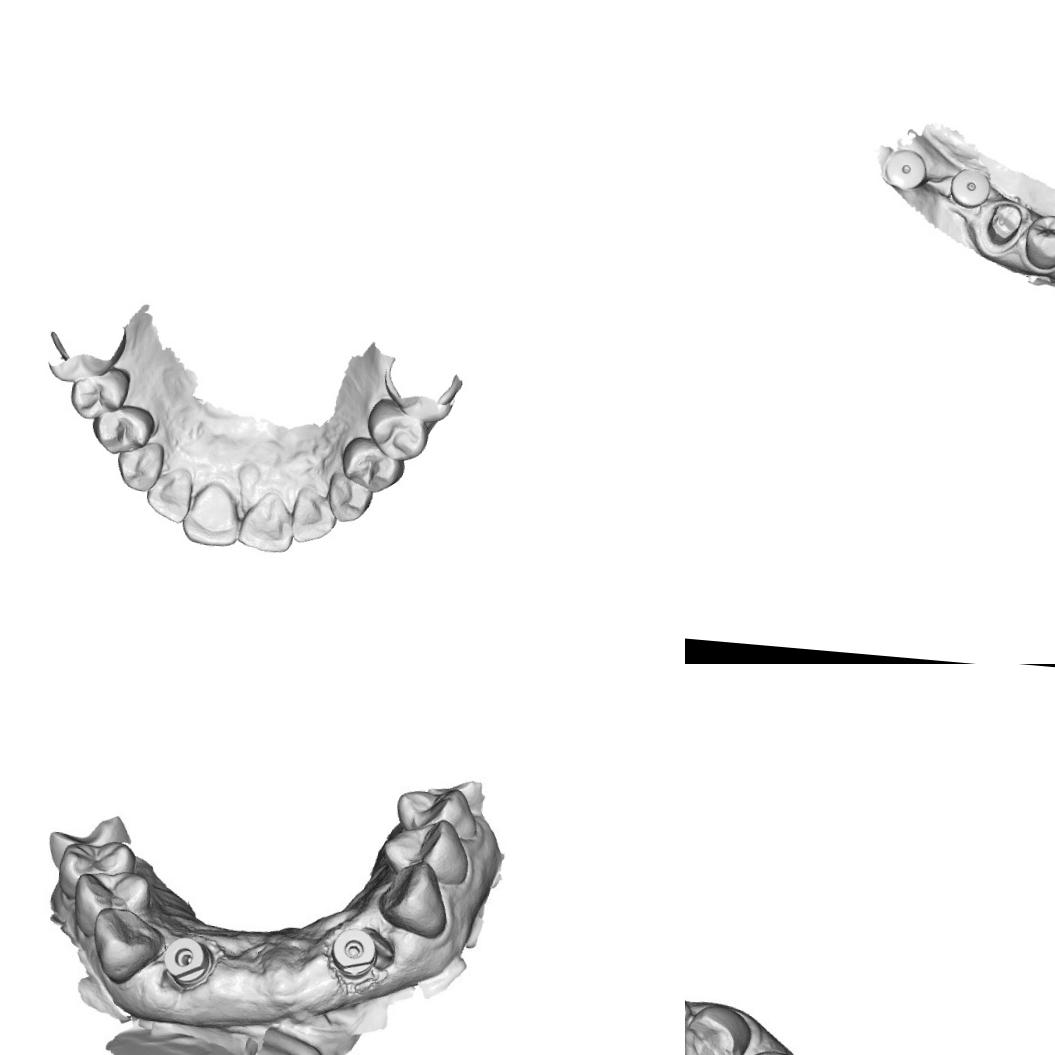canine: (88, 902, 164, 986), (374, 856, 449, 933), (685, 1001, 750, 1055), (112, 436, 166, 494), (324, 470, 375, 524)
crown: (970, 198, 1030, 259)
implant: (318, 922, 396, 990), (151, 928, 223, 1000), (882, 146, 928, 191), (946, 164, 992, 208)
incisor: (180, 478, 246, 548), (236, 490, 297, 554), (287, 483, 339, 546), (143, 464, 195, 524), (685, 980, 704, 1055)
premolar: (68, 866, 151, 938), (381, 818, 471, 882), (58, 832, 140, 902), (396, 783, 477, 845), (362, 394, 432, 465), (338, 433, 407, 496), (88, 399, 156, 458), (66, 363, 132, 423), (1018, 211, 1055, 273)
